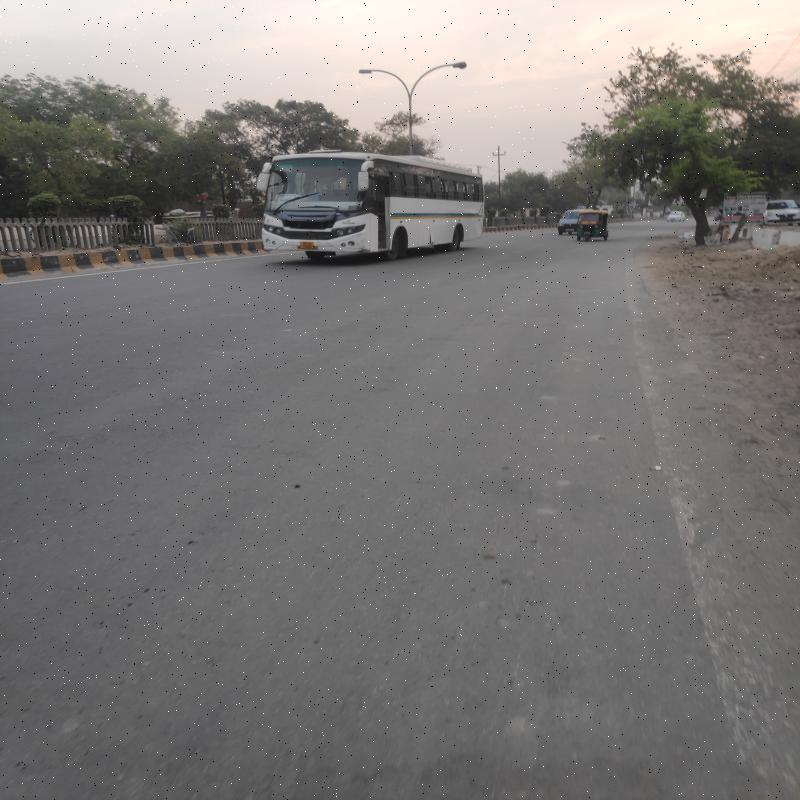bus: (266, 156, 484, 260)
